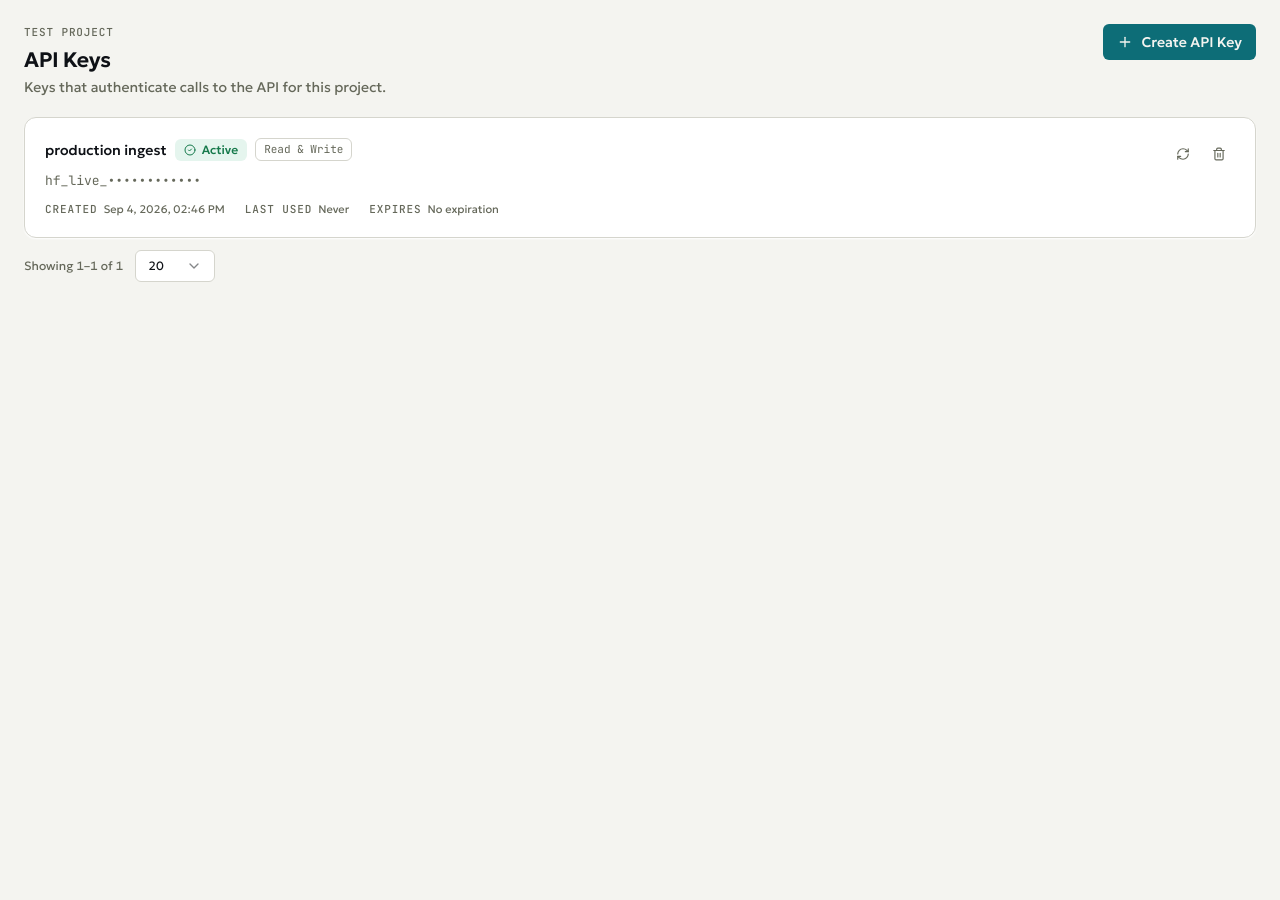
Test: ApiKeysPage — rotation › defaults the grace window to a working day rather than to zero
Expected: the text "production ingest" is shown, [45, 140, 167, 160]
Step 1. Click the button named "Rotate production ingest" → (1183, 154), box [1167, 138, 1199, 170]
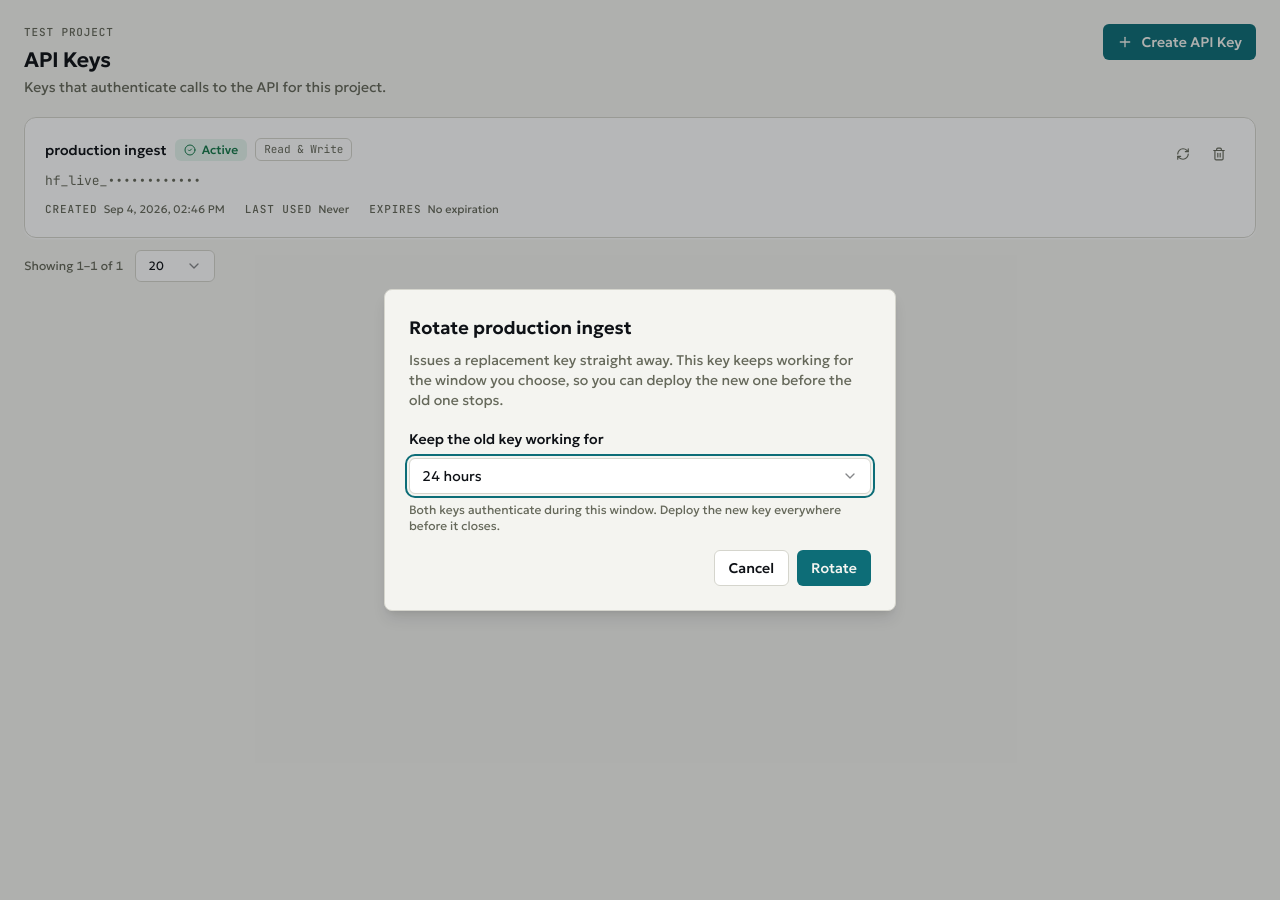
Expected: the dropdown named "Keep the old key working for" reads "24 hours", [409, 458, 871, 494]
